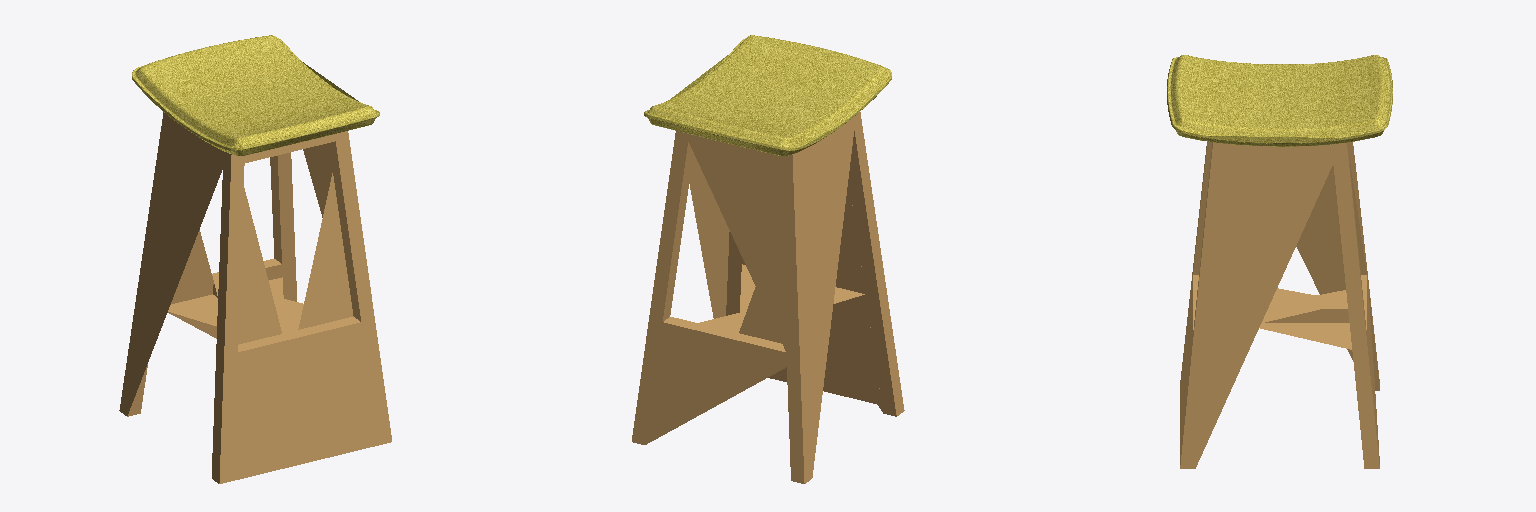
3 renders of one model, left to right at view 1: azimuth 30°, elevation 25°; view 2: azimuth 150°, elevation 25°; view 3: azimuth 270°, elevation 25°, orthographic.
Visible parts, largest first — view 1: Mesh1 Model, Mesh2 Model; view 2: Mesh1 Model, Mesh2 Model; view 3: Mesh1 Model, Mesh2 Model.
Part boxes in pixels (x1,y1,x2,y2): Mesh1 Model: (119, 112, 391, 483); Mesh2 Model: (132, 35, 379, 155); Mesh1 Model: (632, 112, 904, 483); Mesh2 Model: (644, 35, 891, 155); Mesh1 Model: (1180, 142, 1379, 468); Mesh2 Model: (1167, 55, 1392, 146).
Bounding box in the file's own units: 412 × 775 × 467.
Materials: 3 (1 with a texture image).